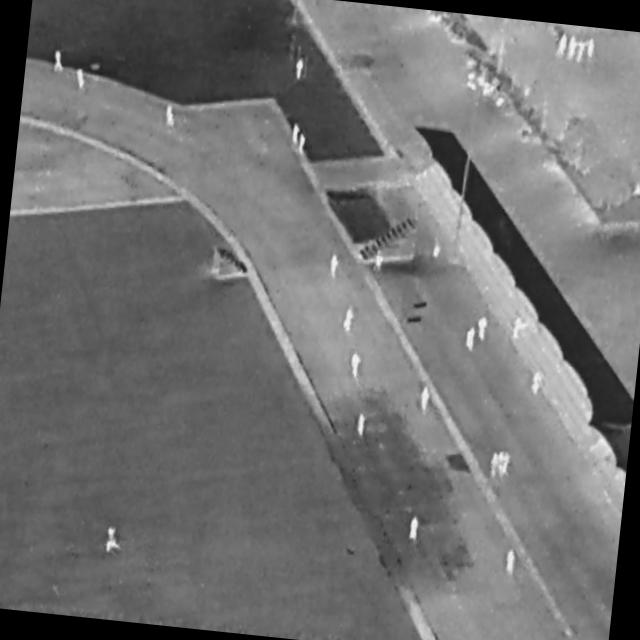person: (106, 526, 125, 555), (343, 305, 356, 335), (531, 369, 544, 396), (477, 316, 490, 342), (506, 548, 518, 576), (350, 352, 362, 379), (54, 51, 67, 75), (557, 32, 569, 58), (420, 387, 431, 413), (466, 327, 477, 353), (409, 517, 420, 542), (497, 452, 507, 478), (490, 452, 500, 478), (330, 254, 340, 279), (375, 249, 385, 274), (568, 37, 578, 62), (577, 40, 587, 65), (76, 69, 87, 90), (586, 39, 597, 60), (503, 451, 512, 476), (358, 413, 367, 438), (432, 238, 442, 259), (295, 59, 304, 81), (293, 124, 302, 146), (299, 134, 307, 156), (166, 103, 173, 122)
